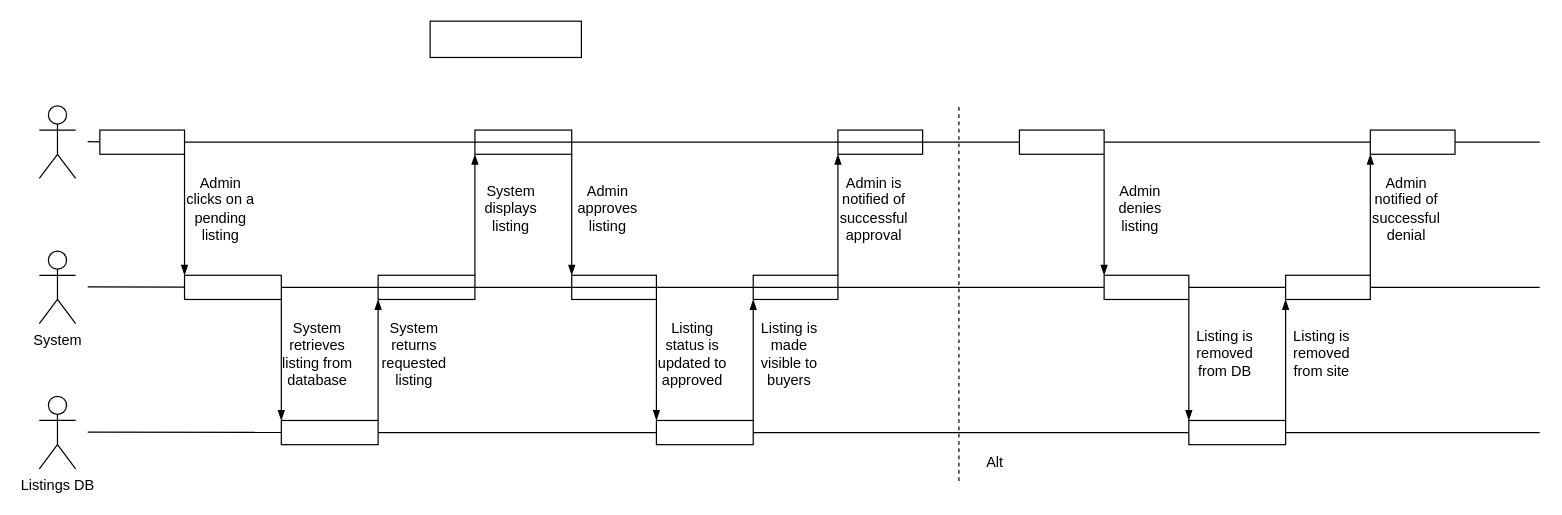
This 1562x515 diagram has some shape labels left out. The shapes that lost their labels are listed below. From the top down, each one's centre as x and y in pixels, then its label:
At point 505,38: "Review Listings".
At point 57,141: "Admin".
